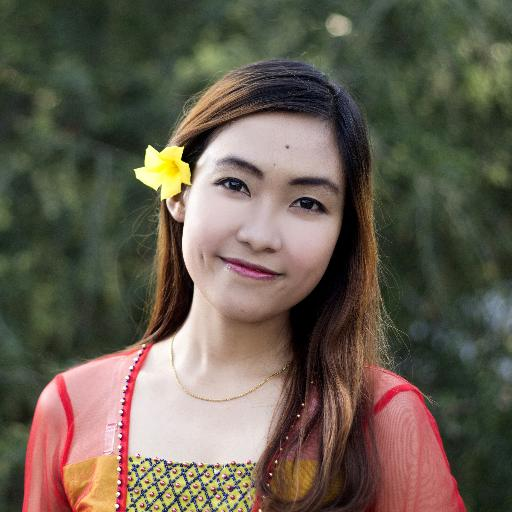left_eye: (288, 196, 330, 216)
left_lip_corner: (277, 270, 292, 282)
right_eye: (215, 177, 251, 195)
right_lip_corner: (213, 252, 232, 270)
